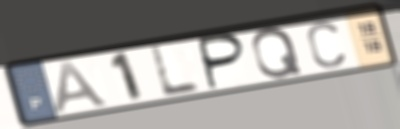1: (109, 49, 146, 104)
A: (52, 59, 113, 116)
C: (304, 20, 348, 71)
L: (148, 44, 204, 99)
P: (198, 32, 250, 92)
Q: (249, 26, 305, 81)
